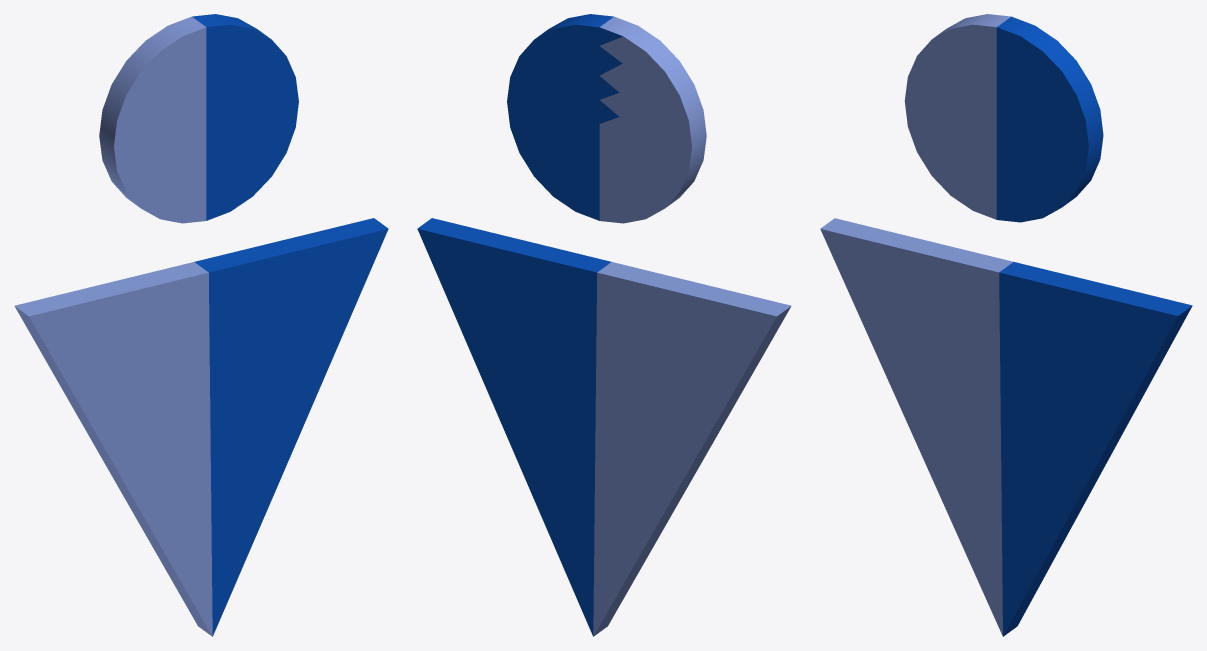
File: ICONO_HOMBRE.fbx
3 views of the same model, side by side, from view 1: azimuth 30°, elevation 25°; view 2: azimuth 150°, elevation 25°; view 3: azimuth 330°, elevation 25° (orthographic).
Visible parts, largest first — view 1: ICONO_HOMBRE; view 2: ICONO_HOMBRE; view 3: ICONO_HOMBRE.
Part boxes in pixels (x1,y1,x2,y2): ICONO_HOMBRE: (14, 14, 388, 636); ICONO_HOMBRE: (417, 14, 791, 636); ICONO_HOMBRE: (820, 14, 1192, 636).
Bounding box in the file's own units: 174 × 283 × 12.3.
